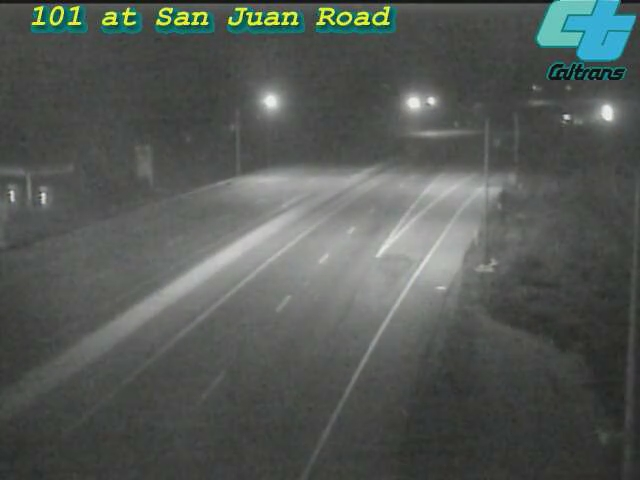vehicle: (543, 96, 593, 146), (582, 88, 632, 138)
